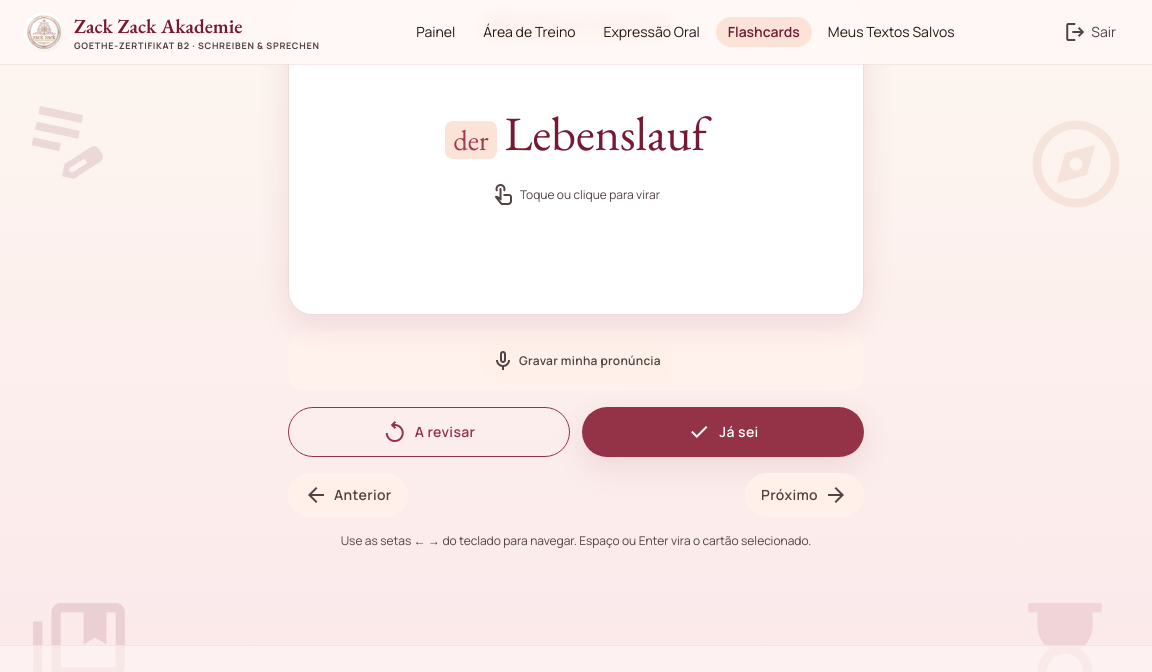
Test: Flashcards › pronunciation recording › explains how to unblock a denied microphone
(page scrolled)
What coordinates should you click on to do the following:
click the button "Gravar minha pronúncia"
I would click on:
 (576, 360)
Its box is [479,342,673,378].
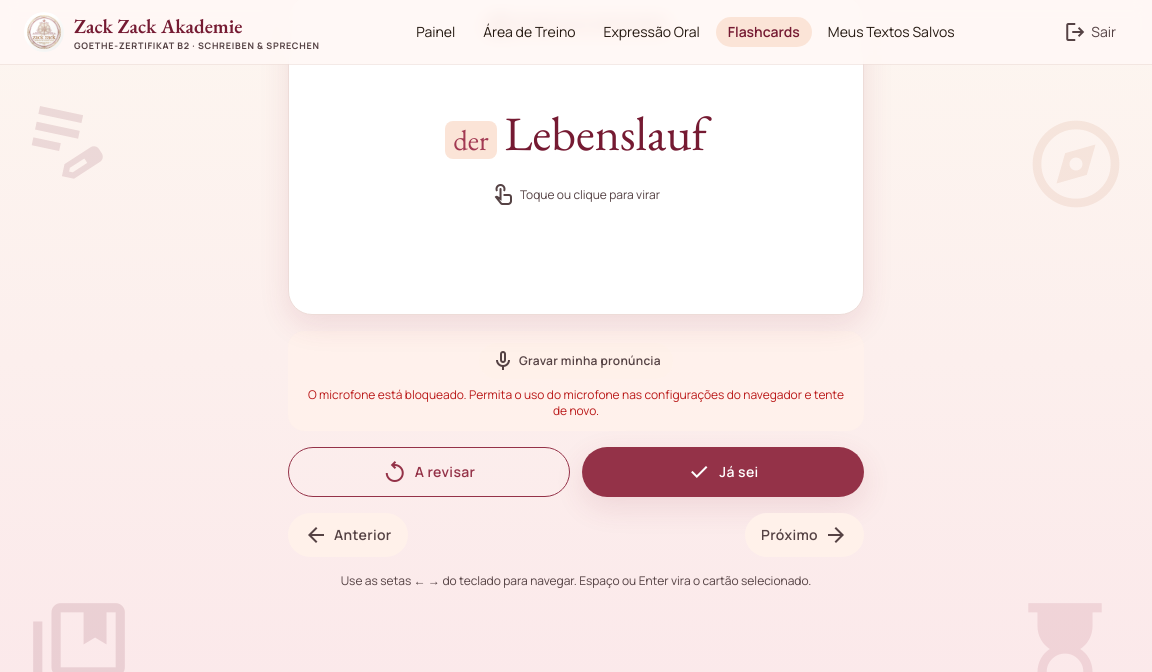
Expected: the message shows "microfone está bloqueado", [308,386,844,418]
